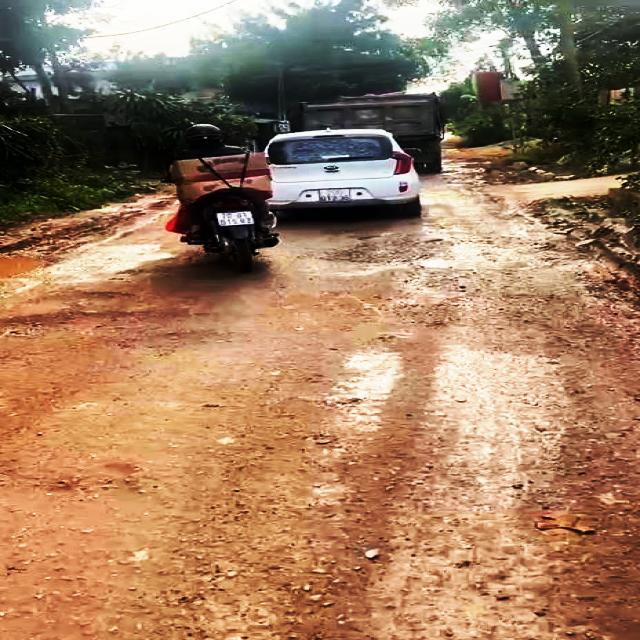pothole: (331, 236, 566, 276), (0, 246, 72, 289)
